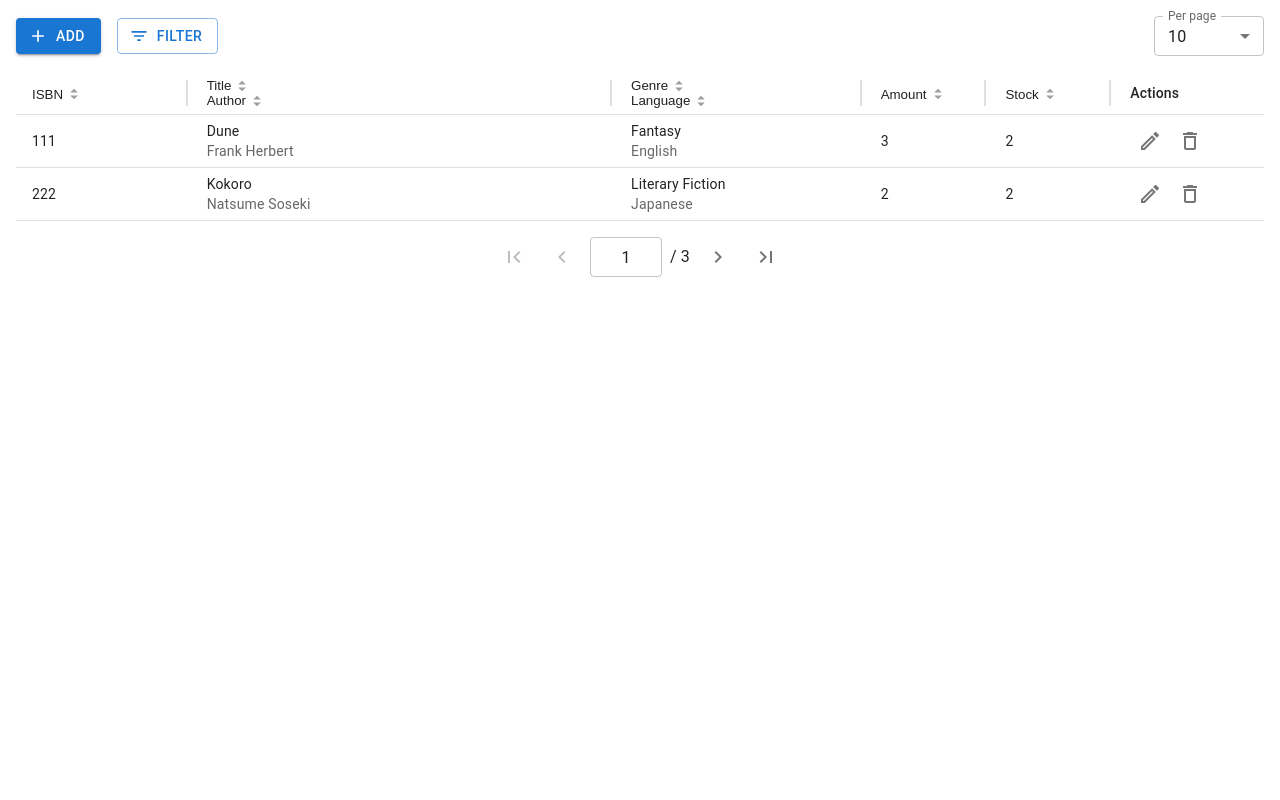
it: CataloguePage › renders the rows and offers filter options
This screenshot has width=1280, height=800.
Expected: the row with test id "book-row-111" shows "Dune", [207, 123, 239, 139]
Expected: the row with test id "book-row-111" shows "Frank Herbert", [207, 143, 294, 159]
Step 1. Click the button with test id "catalogue-filter" → (168, 36), box [117, 18, 218, 54]
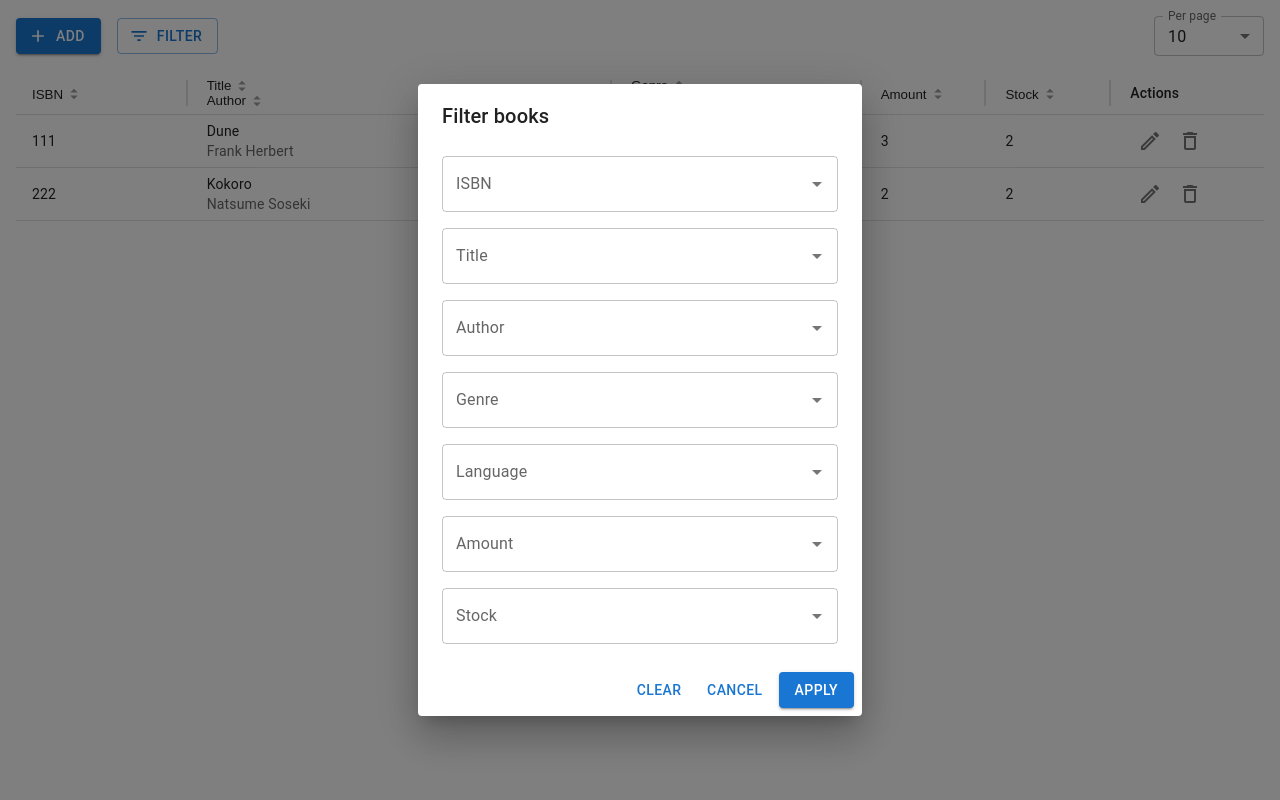
Step 2. Click the dropdown with test id "filter-genre" → (625, 400), box [451, 381, 799, 419]
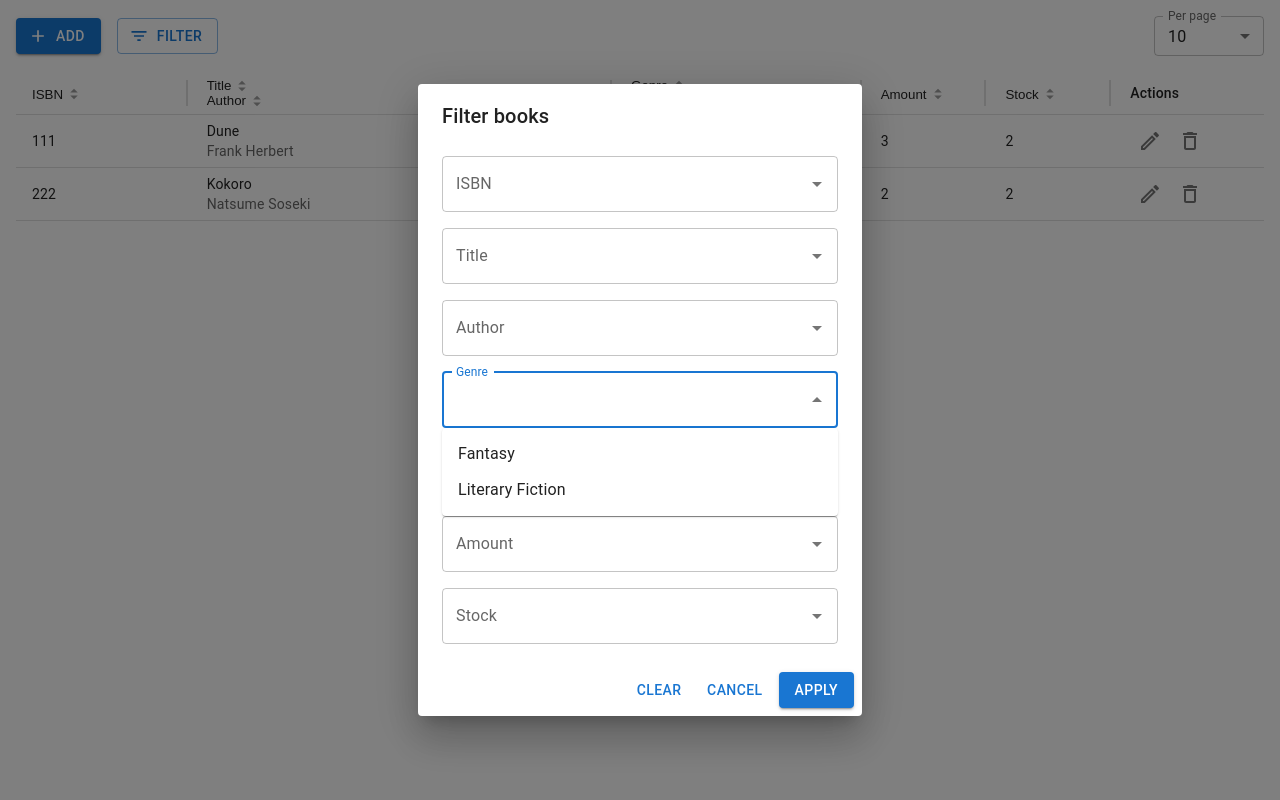
Now the option "Literary Fiction" is shown, box [458, 480, 566, 499]
